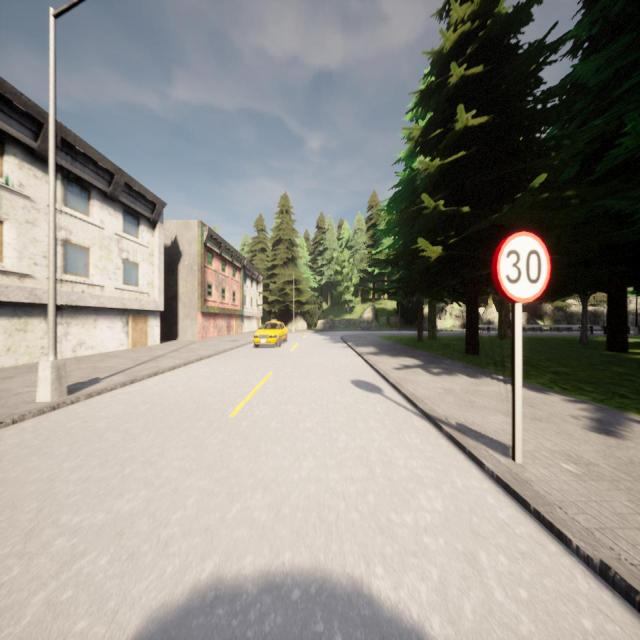Traffic_Signs: (491, 228, 554, 303)
Vehicle: (254, 320, 288, 347)
